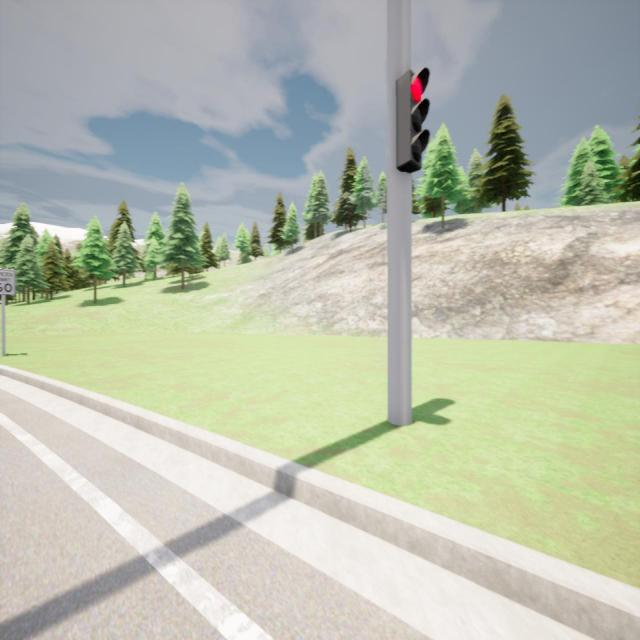Traffic_Signs: (0, 269, 15, 295)
traffic_light: (396, 66, 431, 172)
